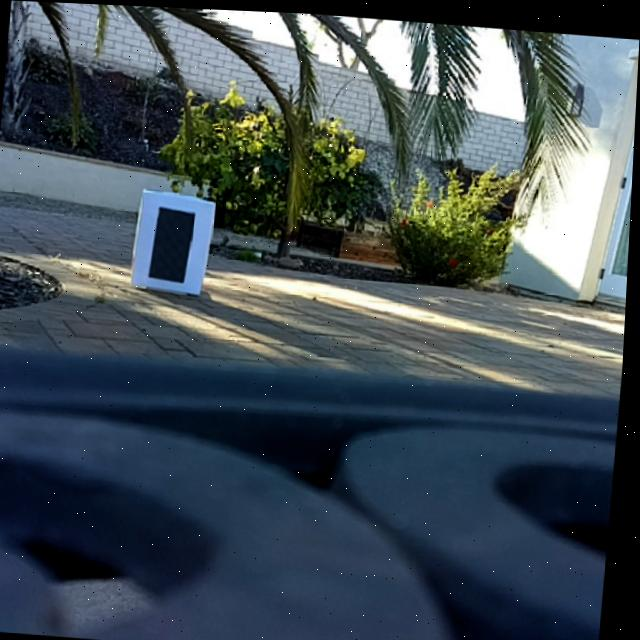led: (152, 203, 196, 281)
